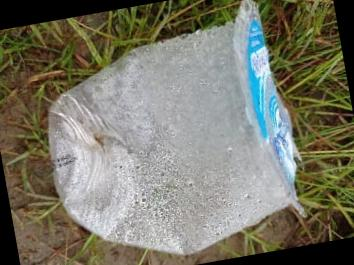Plastik: (50, 0, 304, 254)
